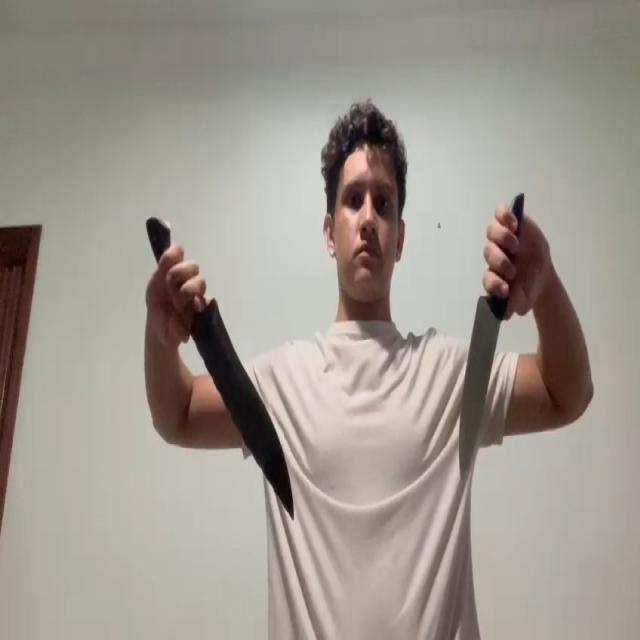knife: (193, 299, 295, 522), (456, 294, 502, 476)
